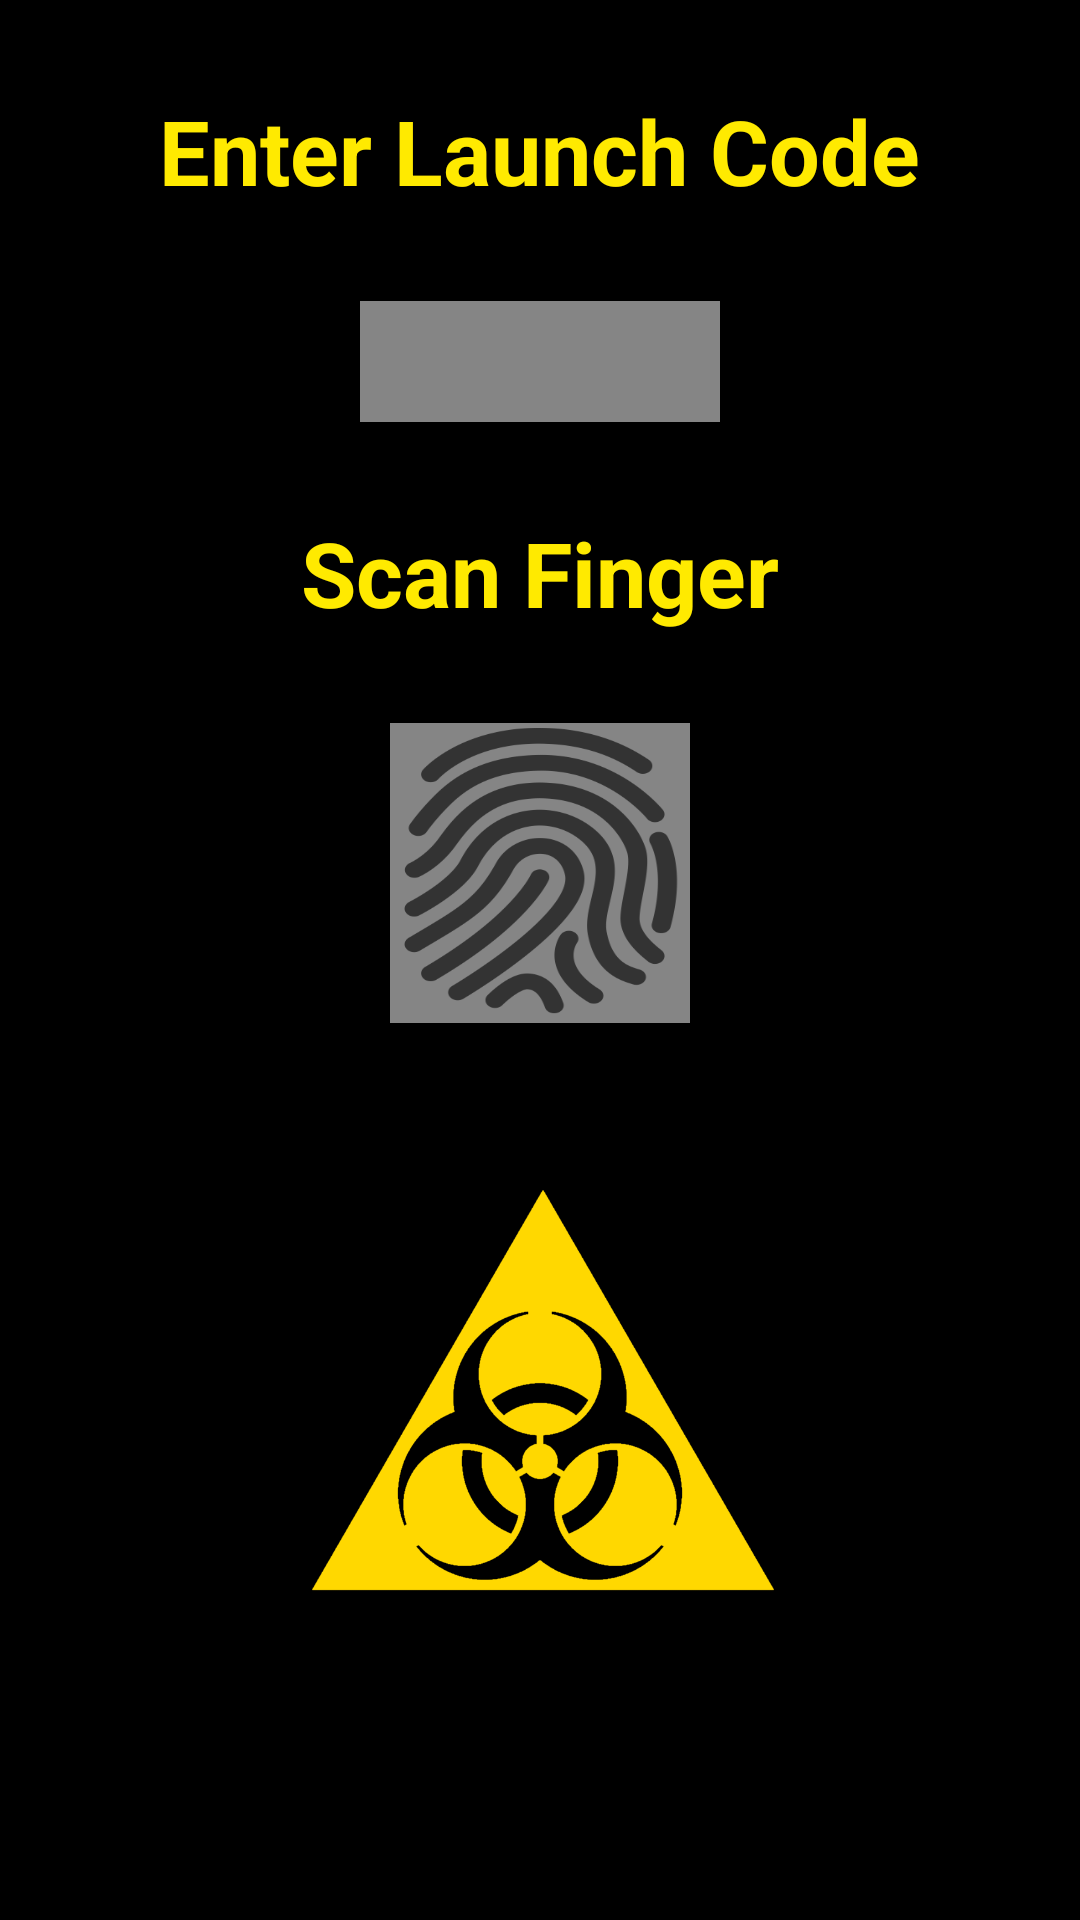

Screen size 1080*1920. Icon name, then its box in pixels as detection(x1, y1, x2, y2):
fingerprint: detection(390, 723, 690, 1023)
